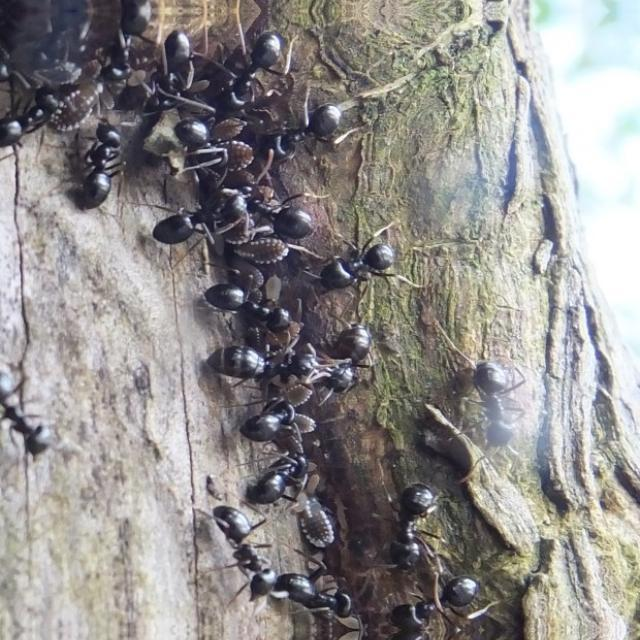Lasius: (0, 328, 60, 462), (217, 9, 293, 112), (316, 220, 408, 302), (199, 491, 271, 587), (467, 372, 538, 464), (280, 561, 376, 629), (238, 388, 324, 458), (90, 10, 160, 86), (235, 182, 317, 246), (207, 273, 306, 325), (202, 335, 318, 379), (170, 190, 252, 252), (250, 452, 324, 520), (396, 474, 446, 574), (393, 571, 479, 629), (79, 113, 133, 205), (0, 84, 76, 148), (15, 10, 85, 74), (152, 21, 198, 115), (330, 320, 386, 392), (271, 92, 345, 146), (174, 121, 233, 187)
